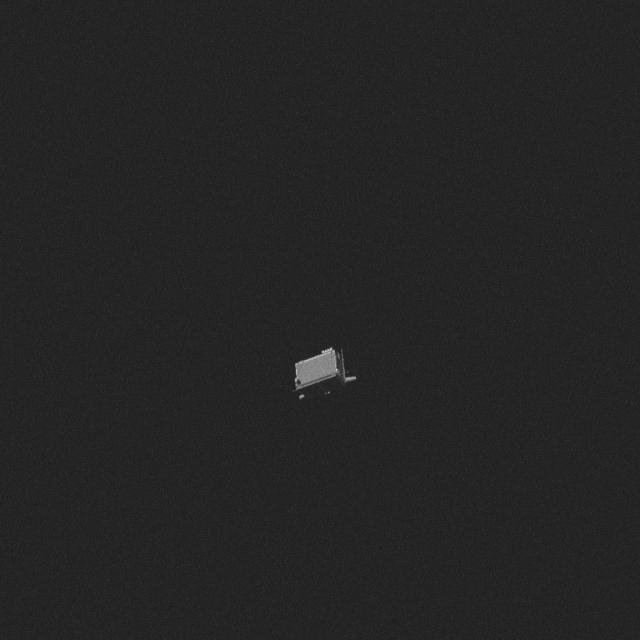satellite: (278, 342, 370, 408)
